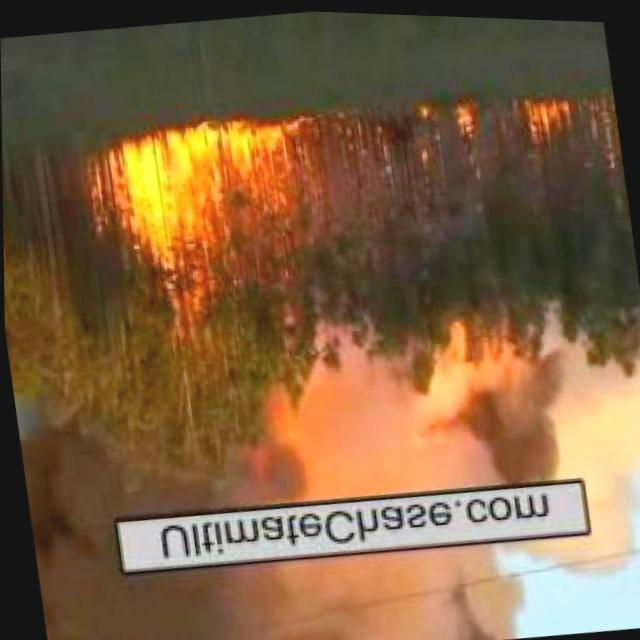Fire: (122, 113, 312, 268), (518, 86, 571, 140), (448, 95, 477, 138)
Smoke: (7, 294, 640, 545), (36, 509, 639, 640)
